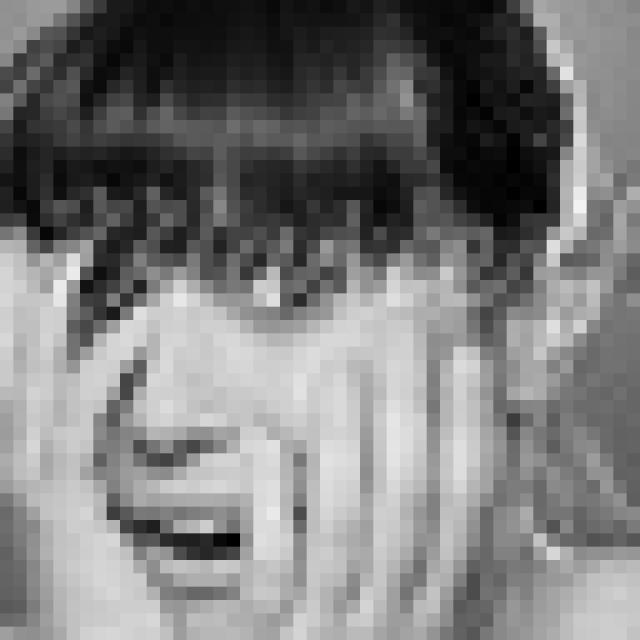fear: (75, 241, 383, 616)
